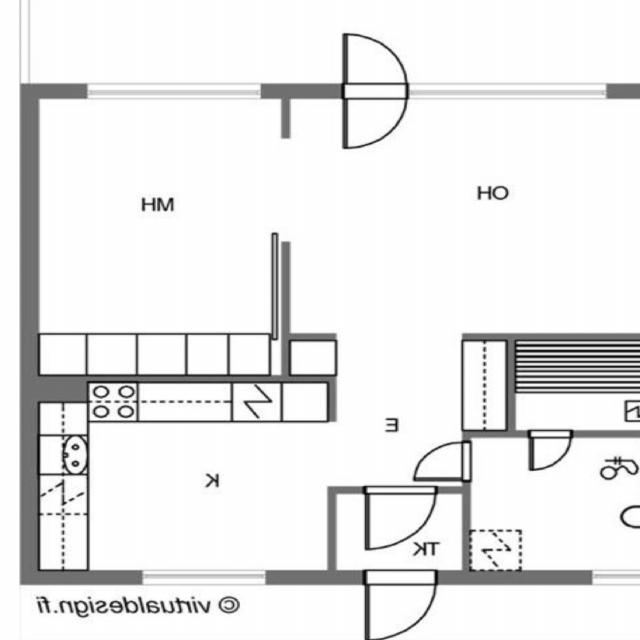door: (368, 571, 437, 640), (367, 487, 437, 551), (344, 30, 409, 97), (344, 83, 409, 149), (415, 442, 473, 480), (532, 432, 572, 472)
